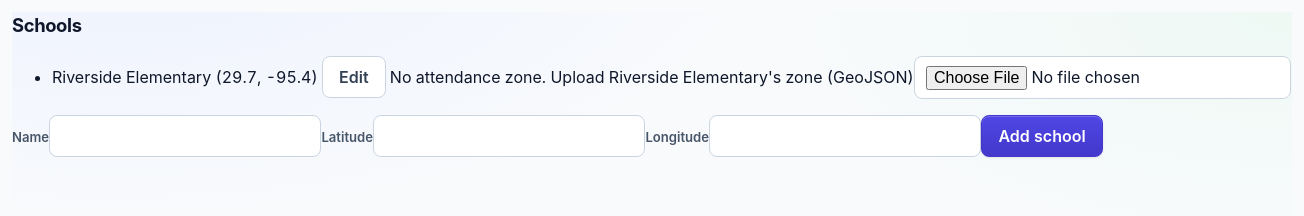
Test: SchoolsSection › renames and moves a school
The image size is (1304, 216).
Click the button with aria-label "Edit Riverside Elementary".
click(354, 77)  # box left=322, top=56, right=386, bottom=98
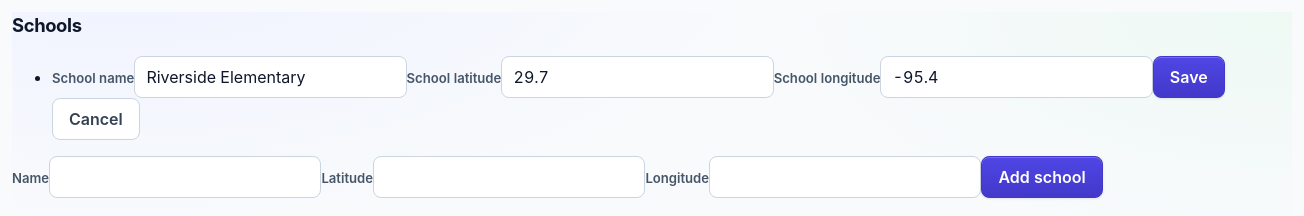
Replace the text in the field labelled "School name" with "Riverside Primary" at (270, 77), box left=134, top=56, right=407, bottom=98
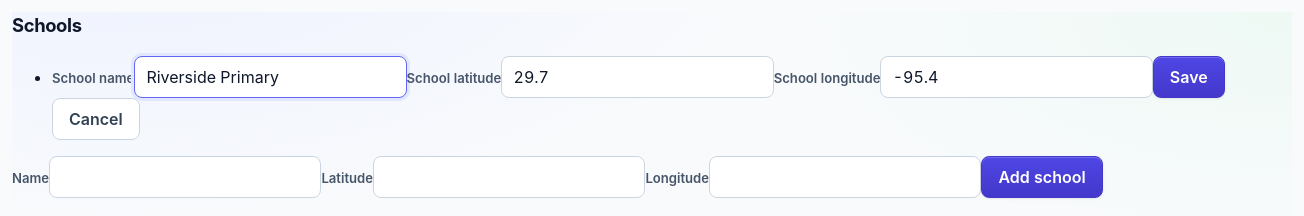
Replace the text in the number field labelled "School latitude" with "29.75" at (638, 77), box left=501, top=56, right=774, bottom=98
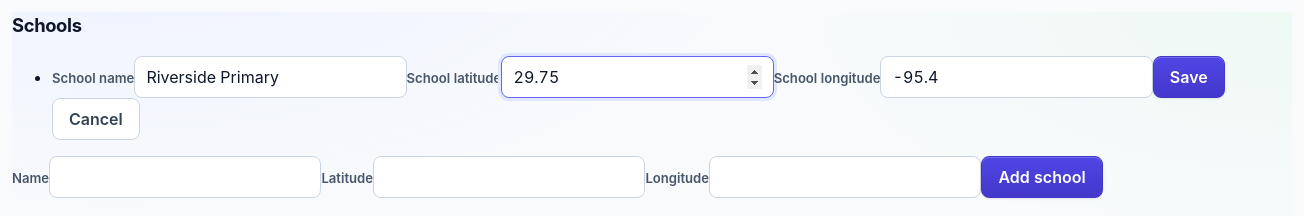
Click the button "Save".
click(1189, 77)  # box left=1153, top=56, right=1225, bottom=98
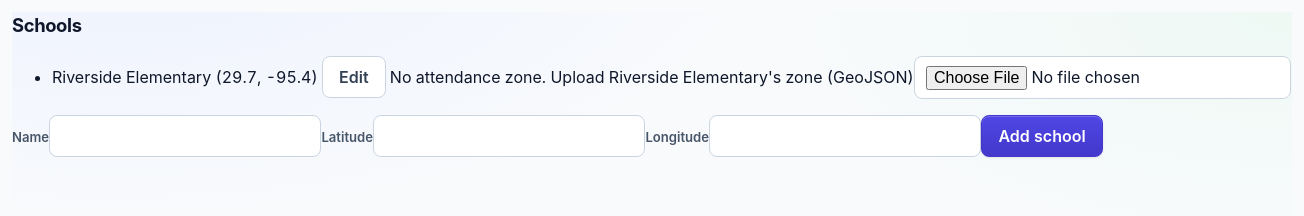
Expected: the label labelled "School name" is gone
